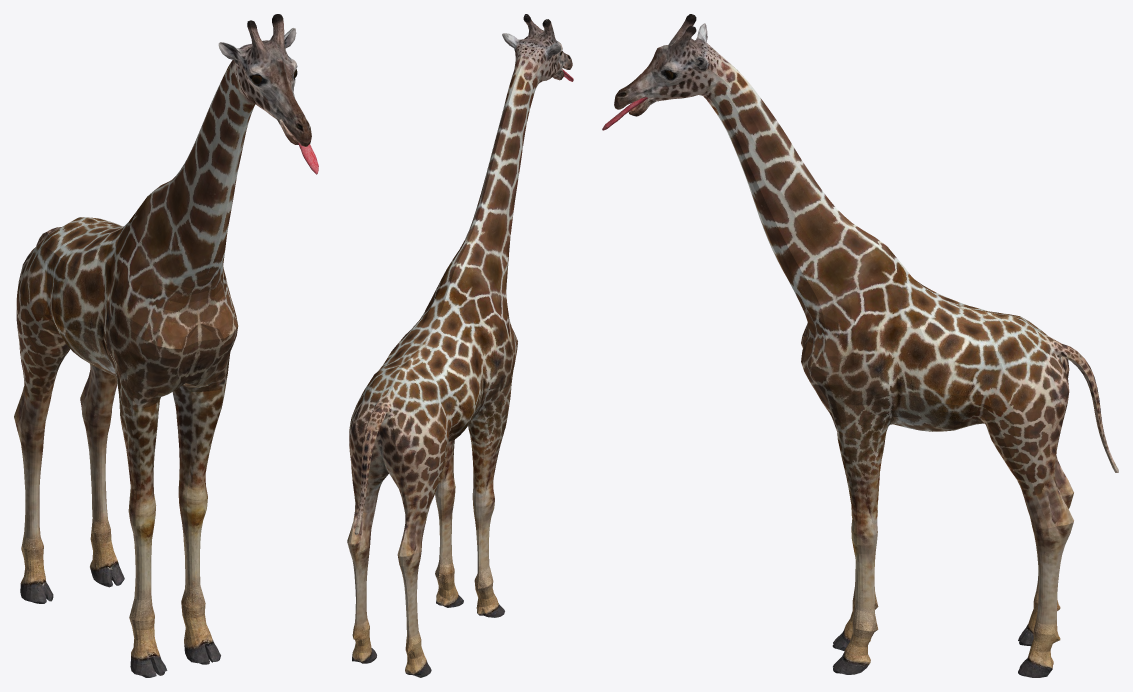
Rendered from AHZGWB60BL1QXW4F2AK6OE7PD.fbx.
The picture shows the model from 3 angles, left to right: view 1: azimuth 30°, elevation 25°; view 2: azimuth 150°, elevation 25°; view 3: azimuth 270°, elevation 25°; orthographic projection. The views are drawn at different scales.
Visible parts, largest first — view 1: Object_Giraffe_D.jpg; view 2: Object_Giraffe_D.jpg; view 3: Object_Giraffe_D.jpg.
Part boxes in pixels (x1,y1,x2,y2): Object_Giraffe_D.jpg: (14, 14, 318, 677); Object_Giraffe_D.jpg: (347, 14, 573, 677); Object_Giraffe_D.jpg: (602, 14, 1118, 677).
Bounding box in the file's own units: 0.4361 × 2.5 × 1.83.
Materials: 1 (1 with a texture image).
